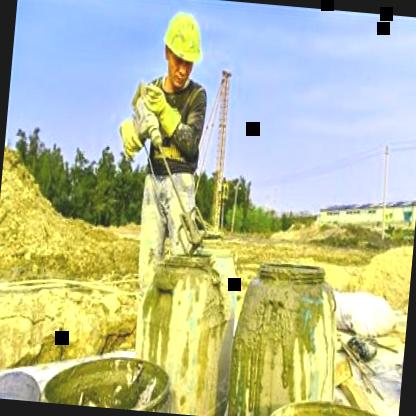helmet: (156, 0, 210, 100)
